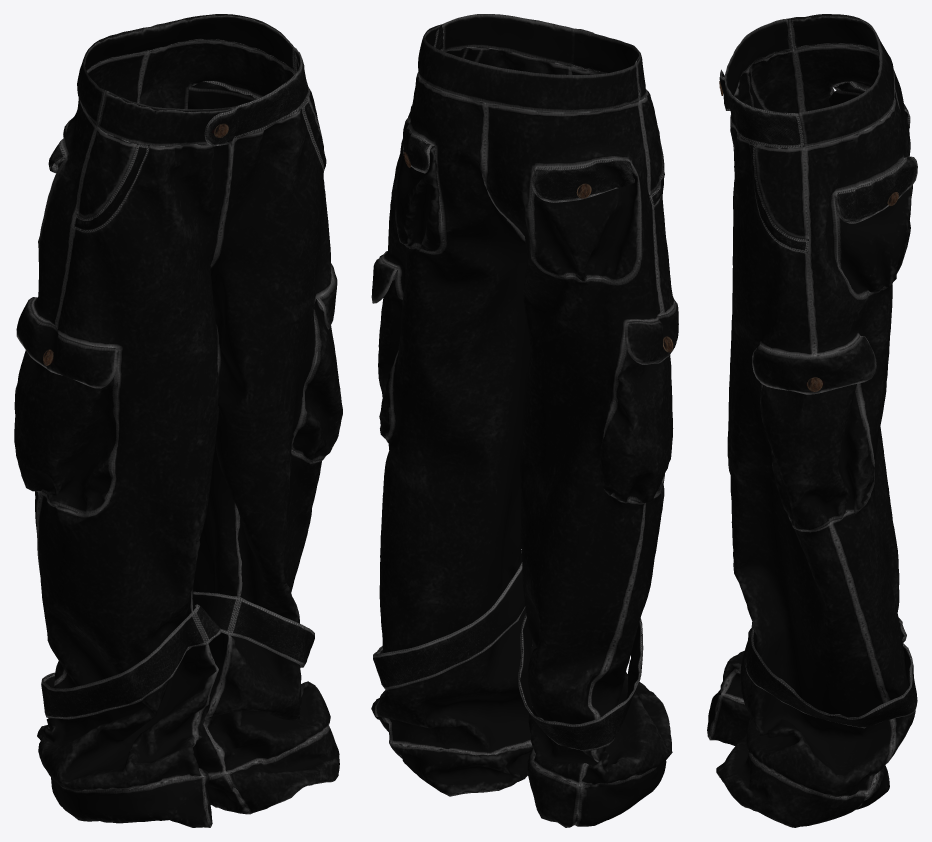
File: pants.glb
3 views of the same model, side by side, from view 1: azimuth 30°, elevation 25°; view 2: azimuth 150°, elevation 25°; view 3: azimuth 270°, elevation 25° (orthographic). The views are drawn at different scales.
Visible parts, largest first — view 1: Object_2; view 2: Object_2; view 3: Object_2.
Boxes of the visible parts, x1,y1,x2,y2 form: Object_2: (14,14,342,827); Object_2: (371,14,678,827); Object_2: (707,14,917,827).
Size of the model in its own units: 0.4146 by 1 by 0.2669.
1 material, 1 textured.
